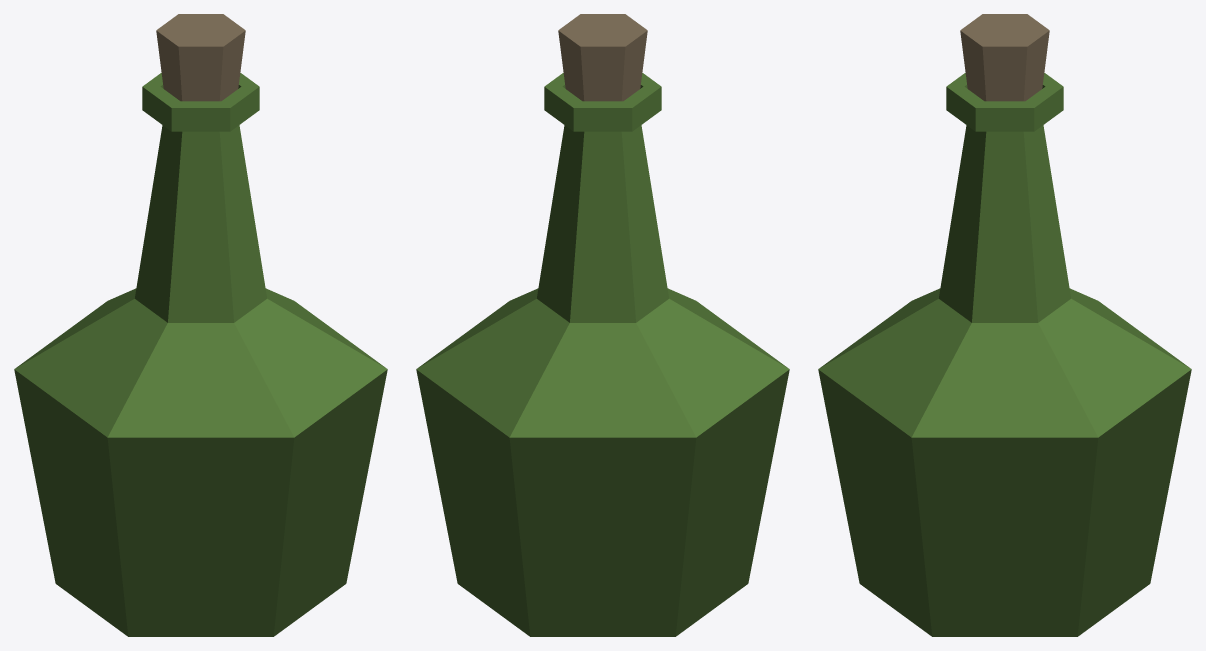
The model's file is Bottle.fbx.
3 renders of one model, left to right at view 1: azimuth 30°, elevation 25°; view 2: azimuth 150°, elevation 25°; view 3: azimuth 270°, elevation 25°, orthographic.
Visible parts, largest first — view 1: Bottle; view 2: Bottle; view 3: Bottle.
Part boxes in pixels (x1,y1,x2,y2): Bottle: [14, 14, 387, 636]; Bottle: [416, 14, 789, 636]; Bottle: [818, 14, 1191, 636].
Bounding box in the file's own units: 17.95 × 33.87 × 20.72.
